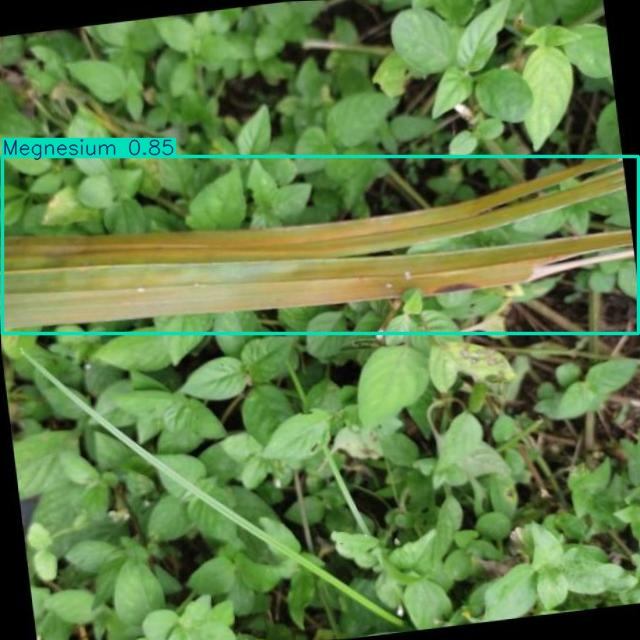Megnesium: (2, 157, 639, 334)
